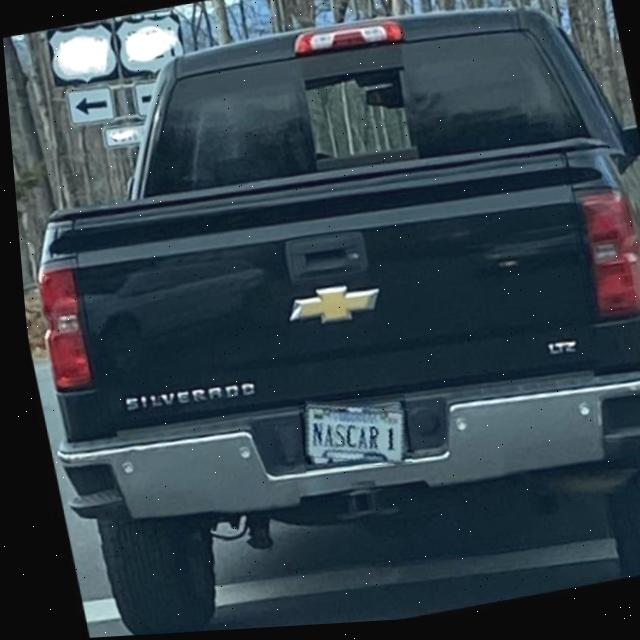LicensePlate: (297, 406, 399, 468)
